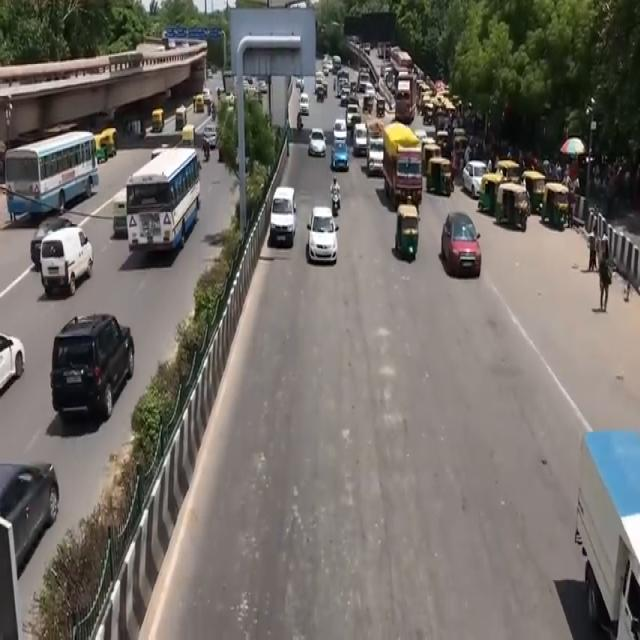BUS: (4, 129, 101, 223), (124, 147, 200, 262)
TRUCK: (39, 227, 95, 300), (384, 129, 426, 212)
